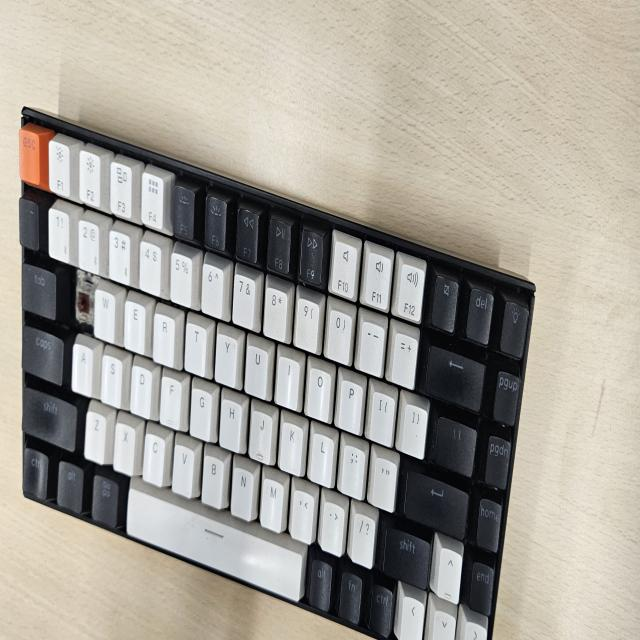C: (72, 276, 90, 328)
